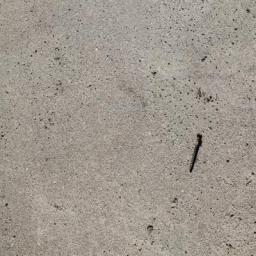FOD: (187, 131, 209, 175)
